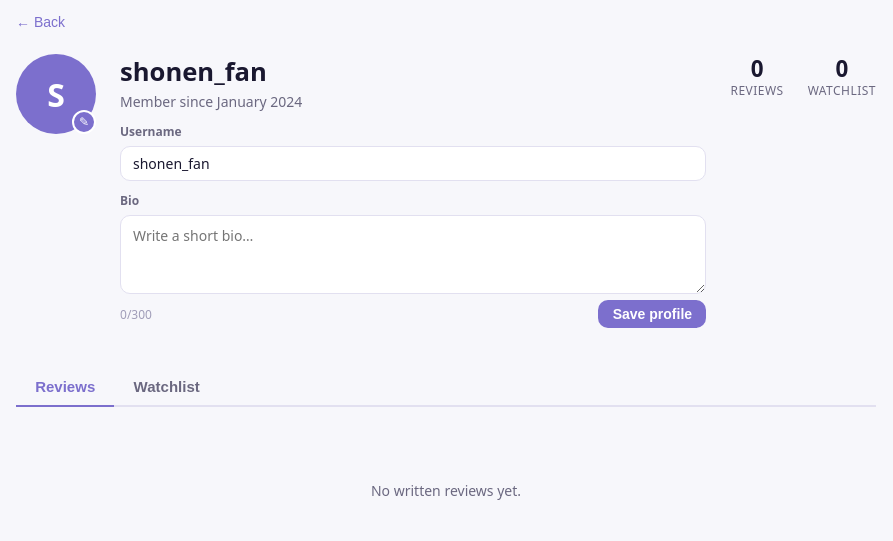
Test: UserProfile — profile save distinguishes a 409 username conflict › shows the backend error message for a non-409 failure
The image size is (893, 541).
Expected: the field showing "shonen_fan" is shown, top-left (120, 146), bottom-right (706, 181)
Click the button "Save profile" at (652, 314), box top-left (598, 300), bottom-right (706, 328)
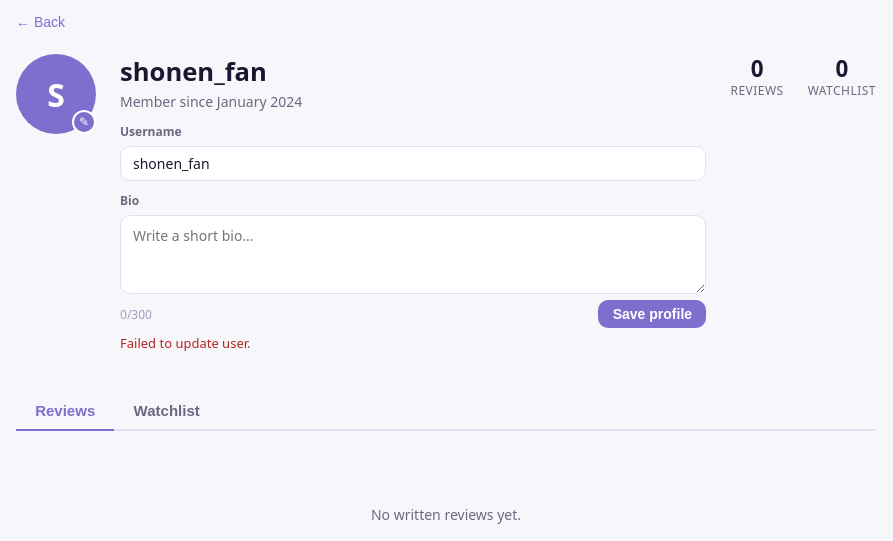
Now the text "Failed to update user." is shown, box top-left (120, 334), bottom-right (250, 352)
